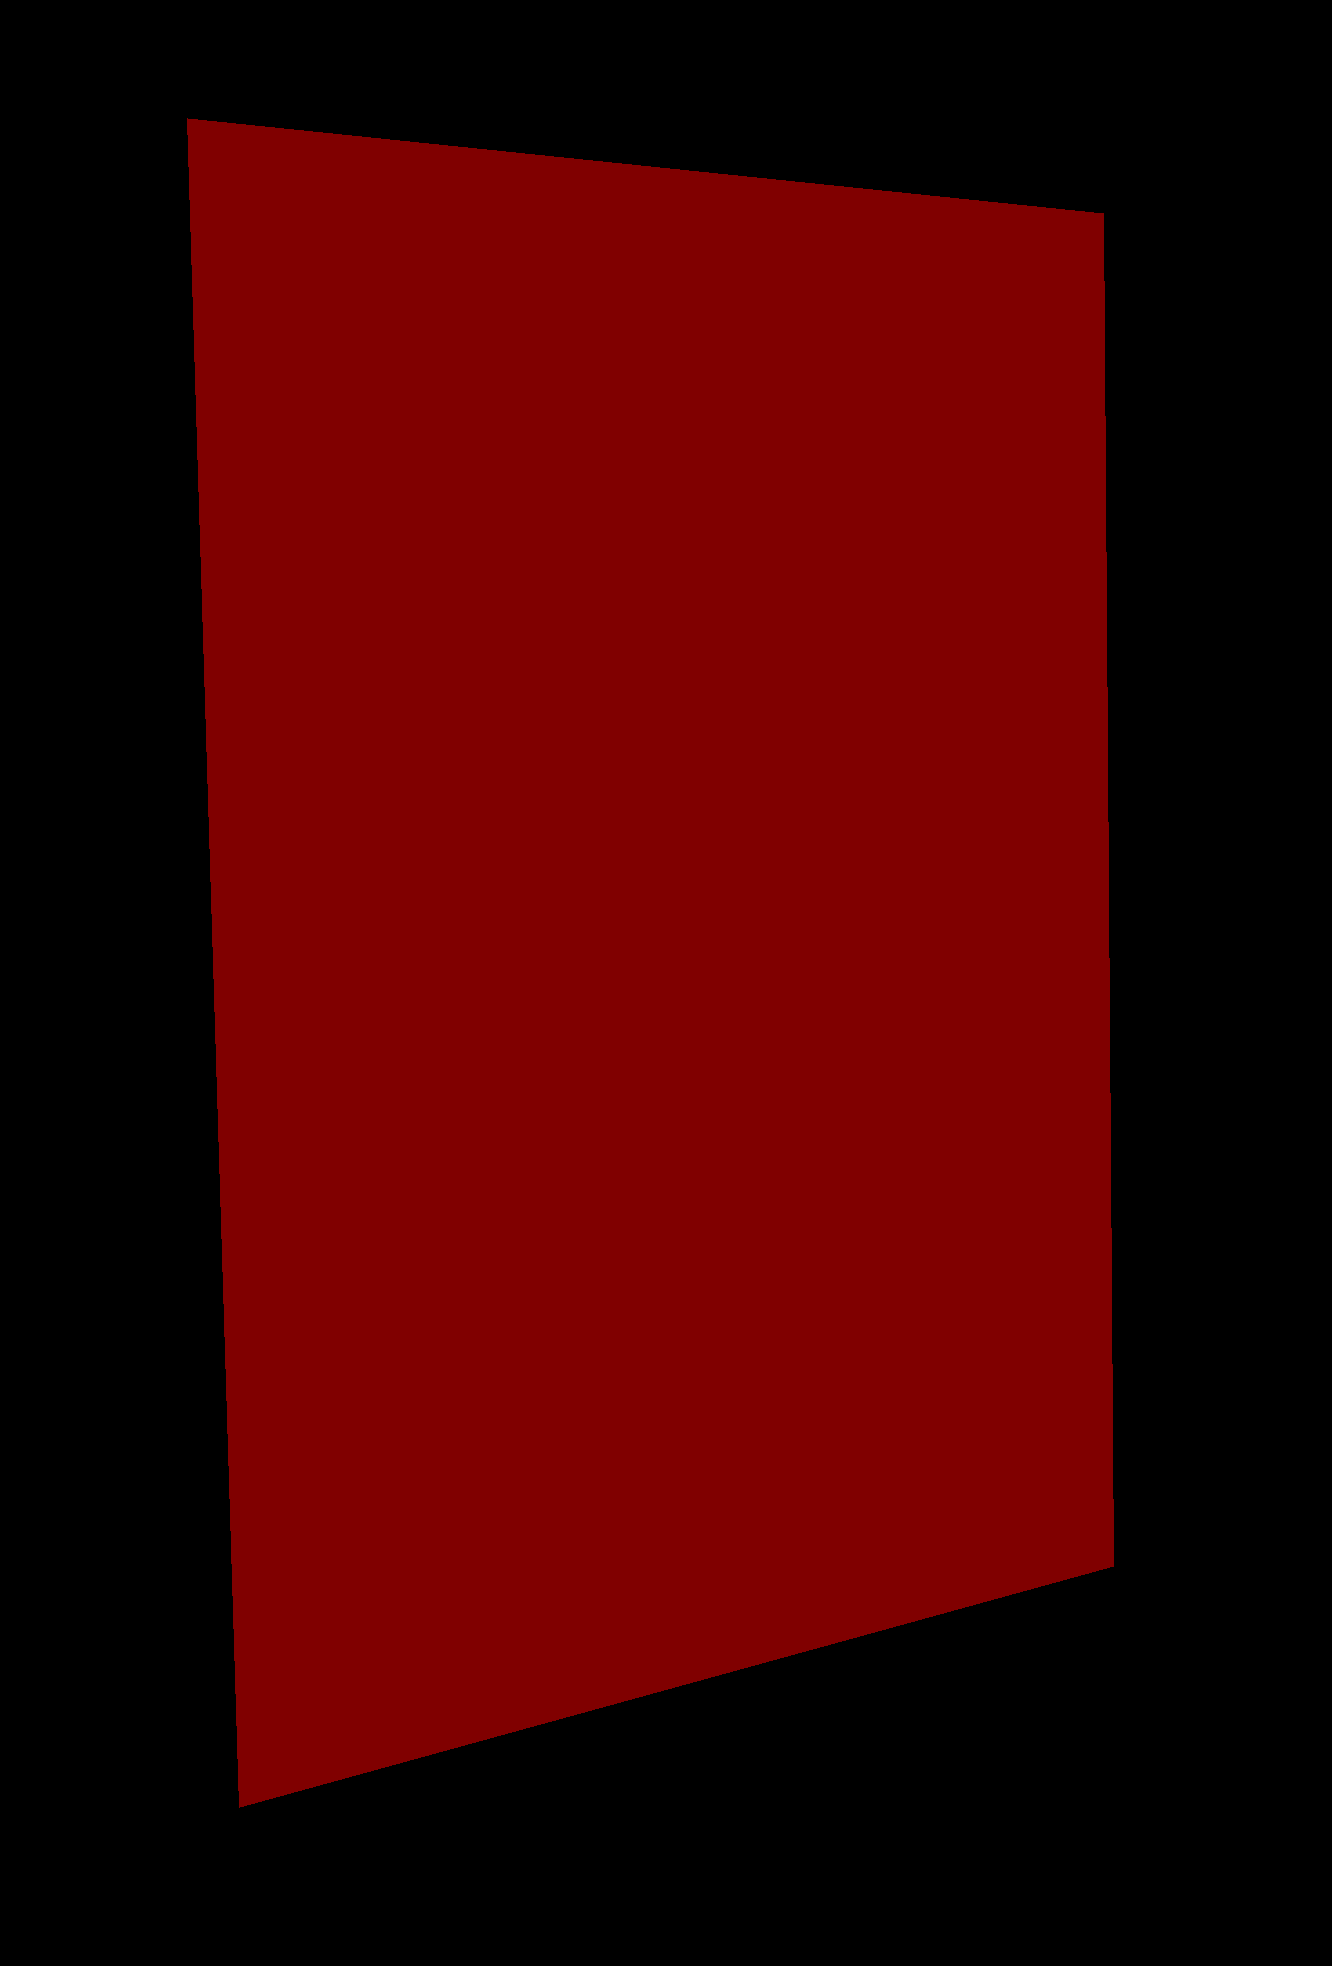sign: (187, 117, 1113, 1807)
